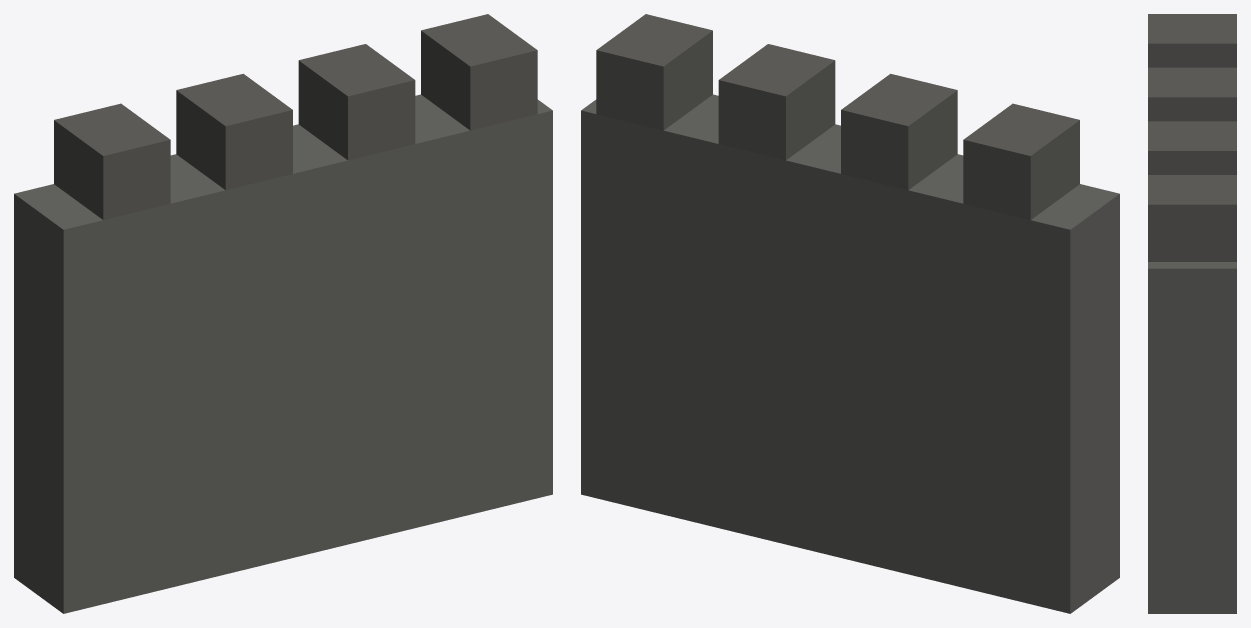
The model's file is wall_segment.glb.
3 renders of one model, left to right at view 1: azimuth 30°, elevation 25°; view 2: azimuth 150°, elevation 25°; view 3: azimuth 270°, elevation 25°, orthographic. The views are drawn at different scales.
Parts seen in each view (by area): view 1: wall_segment; view 2: wall_segment; view 3: wall_segment.
Boxes of the visible parts, x1,y1,x2,y2 form: wall_segment: (14,14,552,613); wall_segment: (581,14,1119,613); wall_segment: (1148,14,1236,613).
Bounding box in the file's own units: 4 × 3.5 × 0.7.
Materials: 1 (1 with a texture image).
